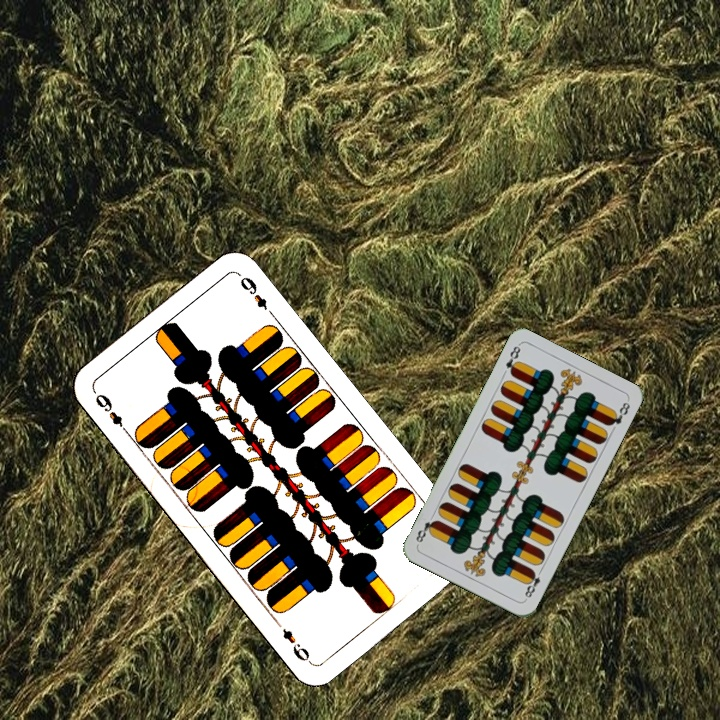E8: (521, 565, 545, 603), (501, 342, 523, 378)
E9: (90, 388, 132, 438)
